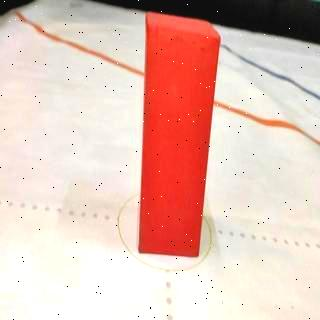redbox: (137, 11, 220, 257)
